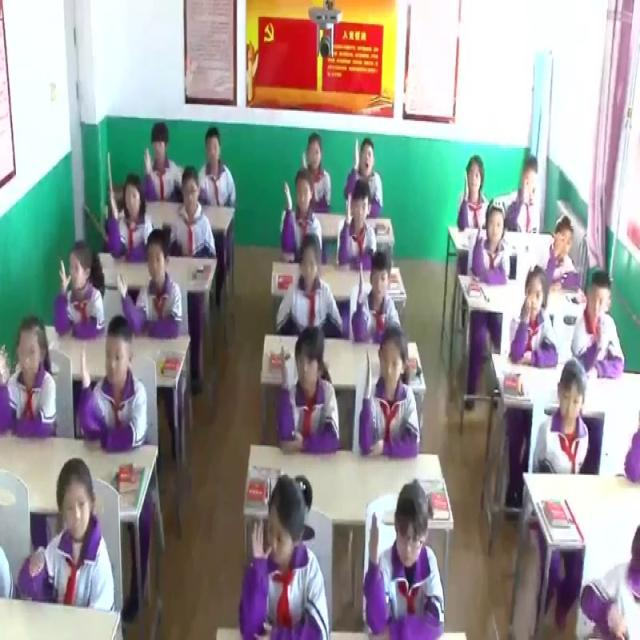focused: (19, 463, 116, 628), (536, 357, 590, 478), (277, 236, 338, 342), (572, 274, 626, 380), (168, 174, 216, 262), (197, 125, 239, 212), (508, 156, 546, 233)
raising_hand: (240, 470, 326, 640), (365, 481, 442, 640), (76, 319, 150, 452), (359, 322, 422, 459), (278, 328, 340, 454), (115, 237, 185, 348), (0, 314, 59, 441), (507, 264, 558, 372), (58, 244, 105, 340), (468, 192, 514, 289), (105, 174, 156, 260), (352, 250, 399, 342), (335, 178, 380, 272), (281, 169, 323, 259), (143, 120, 182, 200), (346, 138, 385, 217), (547, 208, 582, 292), (458, 153, 492, 238), (299, 136, 331, 208)
